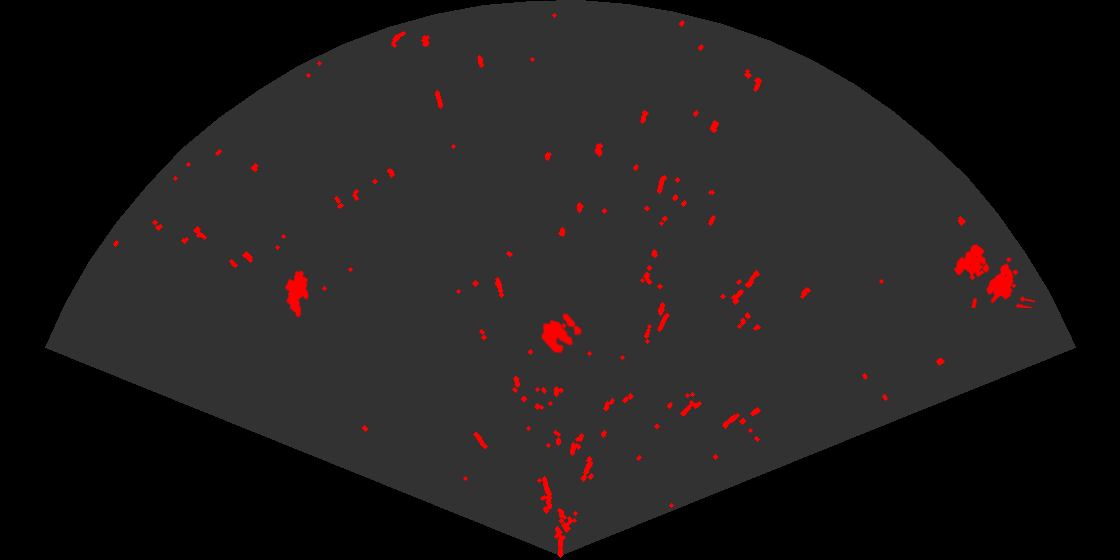AUV: (284, 269, 310, 319)
ball: (540, 312, 584, 355)
cage: (952, 243, 1035, 308)
